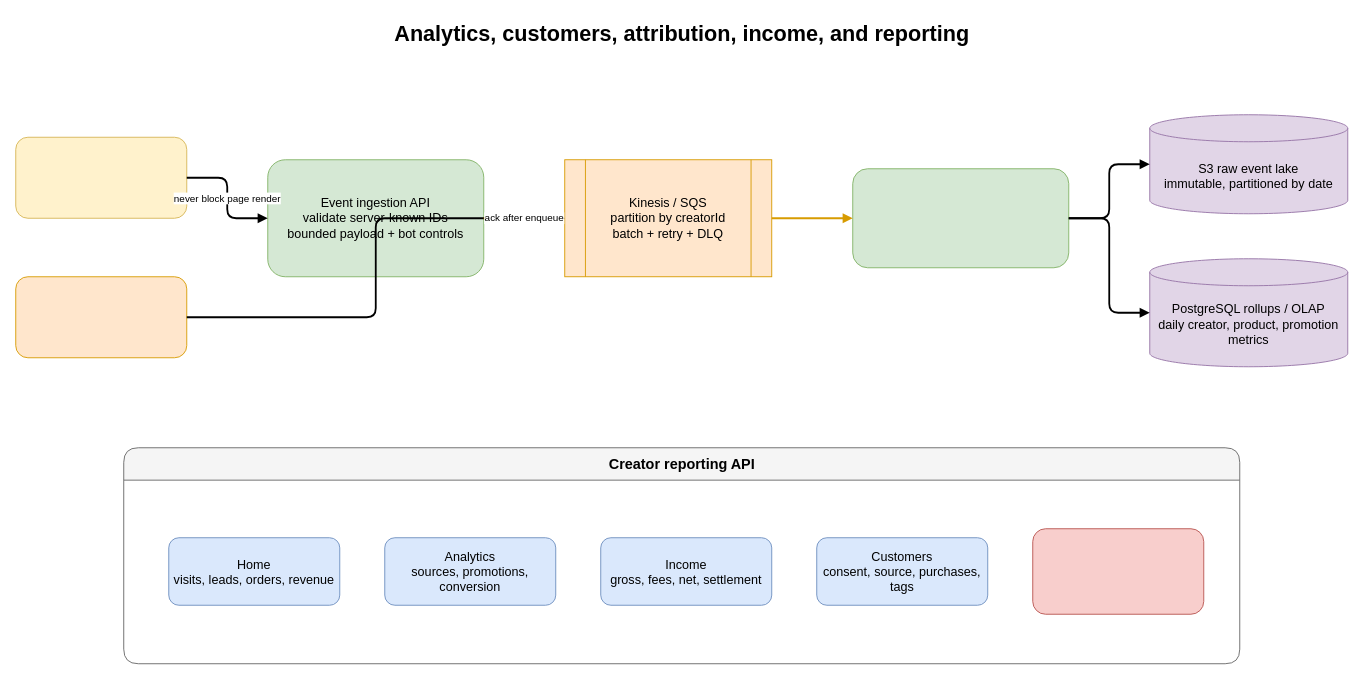
The diagram is 1364 pixels wide and 680 high, and some of its shapes have lost their labels. The shapes that lost their labels are listed below. From the top down, each one's box as (x1, y1, x2, y2) in pixels, then its label:
(15, 136, 187, 218): Storefront events view, click, checkout
(852, 168, 1069, 268): Stream / batch consumers dedupe, attribution, sessionization
(15, 276, 187, 358): Commerce outbox order, refund, settlement
(1032, 528, 1204, 614): Privacy jobs export, deletion, suppression, retention
